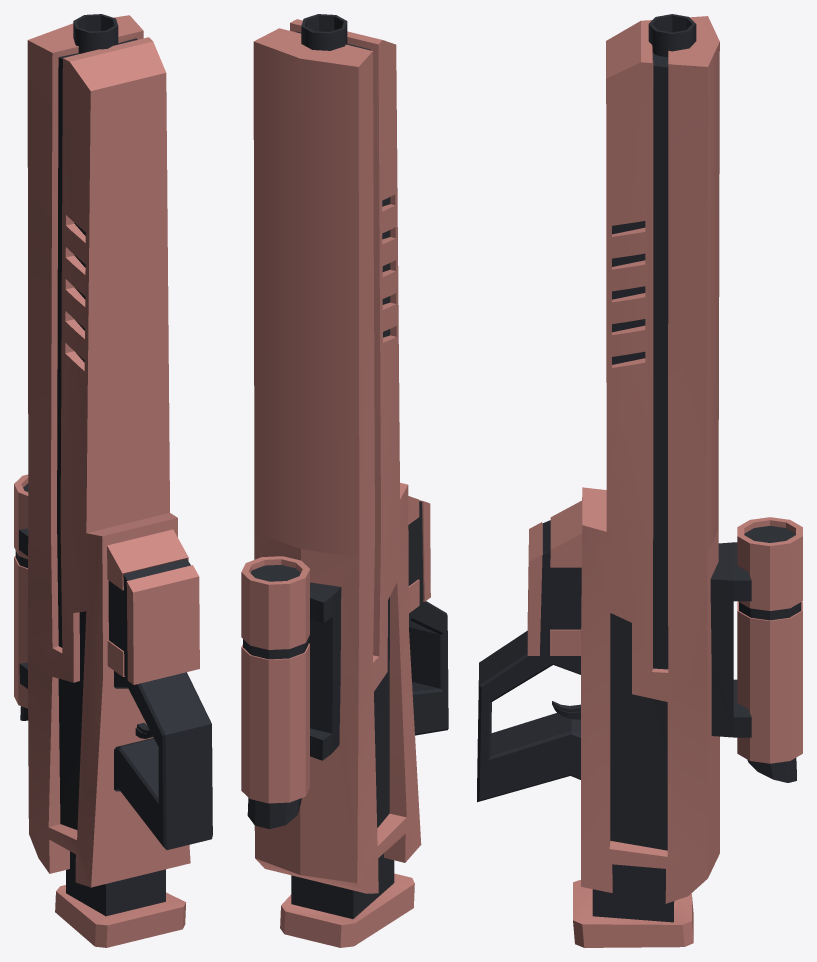
File: low poly scifi gun041.fbx
The picture shows the model from 3 angles, left to right: view 1: azimuth 30°, elevation 25°; view 2: azimuth 150°, elevation 25°; view 3: azimuth 270°, elevation 25°; orthographic projection. The views are drawn at different scales.
Visible parts, largest first — view 1: low poly scifi gun041; view 2: low poly scifi gun041; view 3: low poly scifi gun041.
Part boxes in pixels (x1,y1,x2,y2): low poly scifi gun041: (14,14,212,947); low poly scifi gun041: (241,14,448,947); low poly scifi gun041: (477,14,802,947).
Size of the model in its own units: 3.2 by 26.48 by 8.64.
